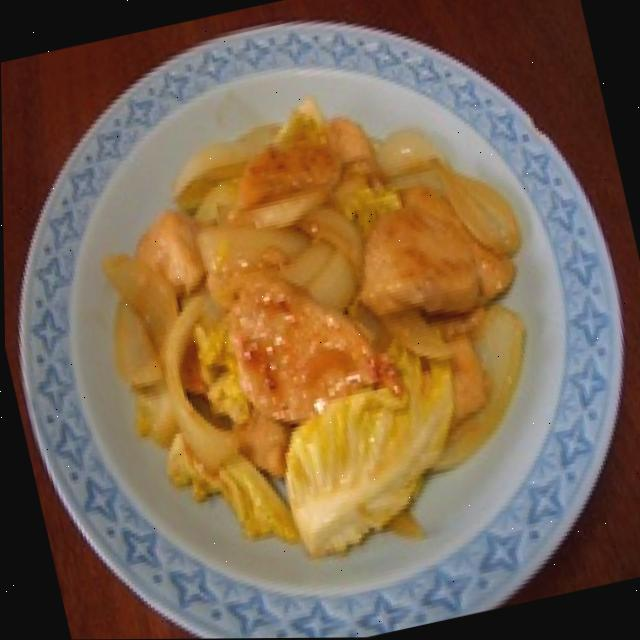蔬菜料理: (0, 6, 606, 606)
